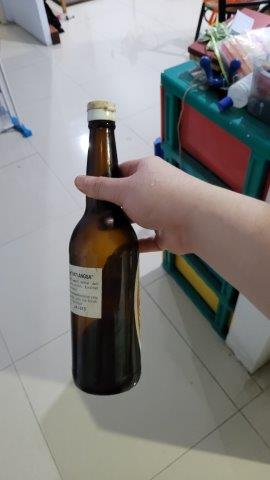botolkaca: (70, 99, 143, 399)
